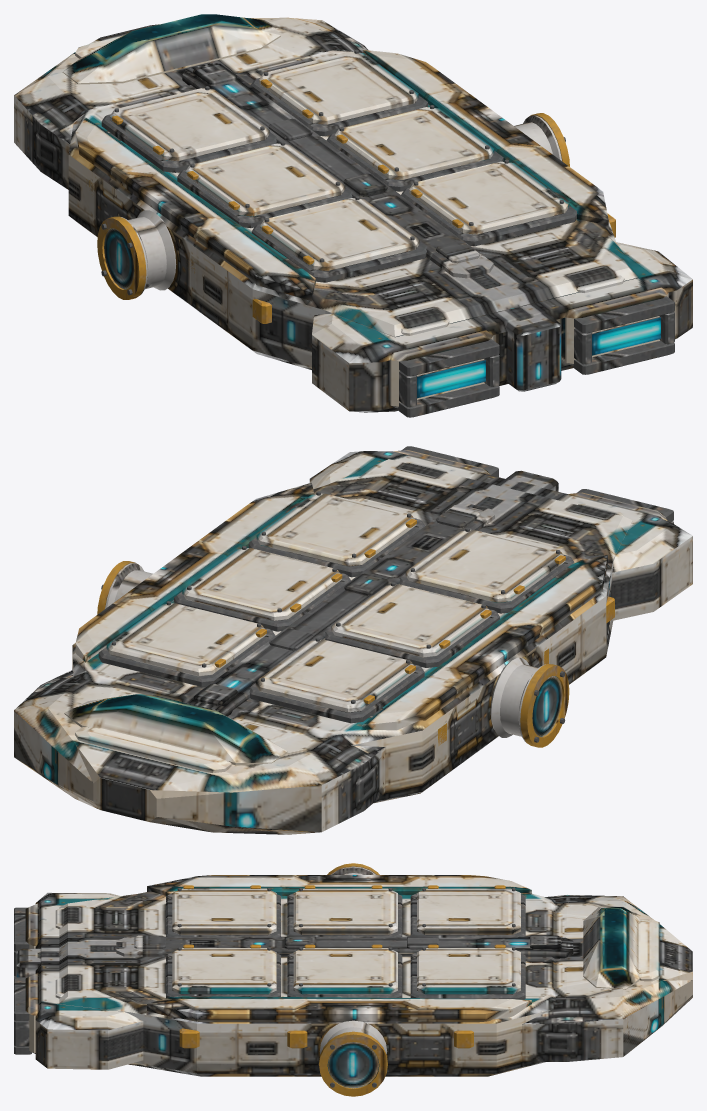
The model's file is clean-slate.obj.
3 renders of one model, top to bottom at view 1: azimuth 30°, elevation 25°; view 2: azimuth 150°, elevation 25°; view 3: azimuth 270°, elevation 25°, orthographic. The views are drawn at different scales.
Parts seen in each view (by area): view 1: hull.enclosed-freight-body, hull.integrated-stern, hull.chisel-bow, armor.port.shoulder, bridge.glazing, armor.starboard.shoulder, machinery.central-spine, cargo.bay.2.lid, cargo.bay.1.lid, cargo.bay.6.lid, cargo.bay.3.lid, cargo.bay.5.lid (+24 smaller); view 2: hull.enclosed-freight-body, hull.chisel-bow, armor.port.shoulder, hull.integrated-stern, armor.starboard.shoulder, bridge.glazing, cargo.bay.6.lid, cargo.bay.1.lid, cargo.bay.4.lid, cargo.bay.2.lid, cargo.bay.5.lid, cargo.bay.3.lid (+17 smaller); view 3: hull.enclosed-freight-body, hull.chisel-bow, armor.starboard.shoulder, hull.integrated-stern, armor.port.shoulder, cargo.bay.3.lid, cargo.bay.2.lid, cargo.bay.1.lid, cargo.bay.6.lid, cargo.bay.5.lid, machinery.central-spine, cargo.bay.4.lid (+23 smaller).
Boxes of the visible parts, box(x1,y1,x2,y2) form: hull.enclosed-freight-body: box(68, 49, 638, 369); hull.integrated-stern: box(312, 242, 692, 412); hull.chisel-bow: box(14, 17, 368, 189); armor.port.shoulder: box(75, 117, 315, 301); bridge.glazing: box(62, 14, 280, 84); armor.starboard.shoulder: box(363, 49, 608, 228); machinery.central-spine: box(182, 63, 493, 278); cargo.bay.2.lid: box(185, 143, 345, 216); cargo.bay.1.lid: box(109, 88, 269, 161); cargo.bay.6.lid: box(409, 161, 568, 234); cargo.bay.3.lid: box(260, 198, 419, 271); cargo.bay.5.lid: box(334, 107, 494, 180); hull.enclosed-freight-body: box(72, 459, 632, 803); hull.chisel-bow: box(14, 669, 385, 834); armor.port.shoulder: box(362, 555, 607, 730); hull.integrated-stern: box(309, 451, 692, 620); armor.starboard.shoulder: box(75, 482, 314, 662); bridge.glazing: box(64, 694, 287, 765); cargo.bay.6.lid: box(256, 493, 416, 566); cargo.bay.1.lid: box(255, 639, 415, 712); cargo.bay.4.lid: box(106, 603, 266, 676); cargo.bay.2.lid: box(331, 584, 490, 657); cargo.bay.5.lid: box(182, 548, 341, 620); cargo.bay.3.lid: box(405, 530, 565, 602); hull.enclosed-freight-body: box(59, 891, 556, 1076); hull.chisel-bow: box(522, 895, 692, 1061); armor.starboard.shoulder: box(147, 996, 531, 1022); hull.integrated-stern: box(35, 892, 143, 1069); armor.port.shoulder: box(147, 875, 531, 895); cargo.bay.3.lid: box(172, 888, 276, 935); cargo.bay.2.lid: box(293, 888, 397, 935); cargo.bay.1.lid: box(417, 888, 520, 935); cargo.bay.6.lid: box(172, 948, 276, 994); cargo.bay.5.lid: box(293, 948, 397, 994); machinery.central-spine: box(116, 936, 573, 958); cargo.bay.4.lid: box(417, 948, 520, 994).
Size of the model in its own units: 11.91 by 2.91 by 19.74.
Materials: 2 (2 with a texture image).
